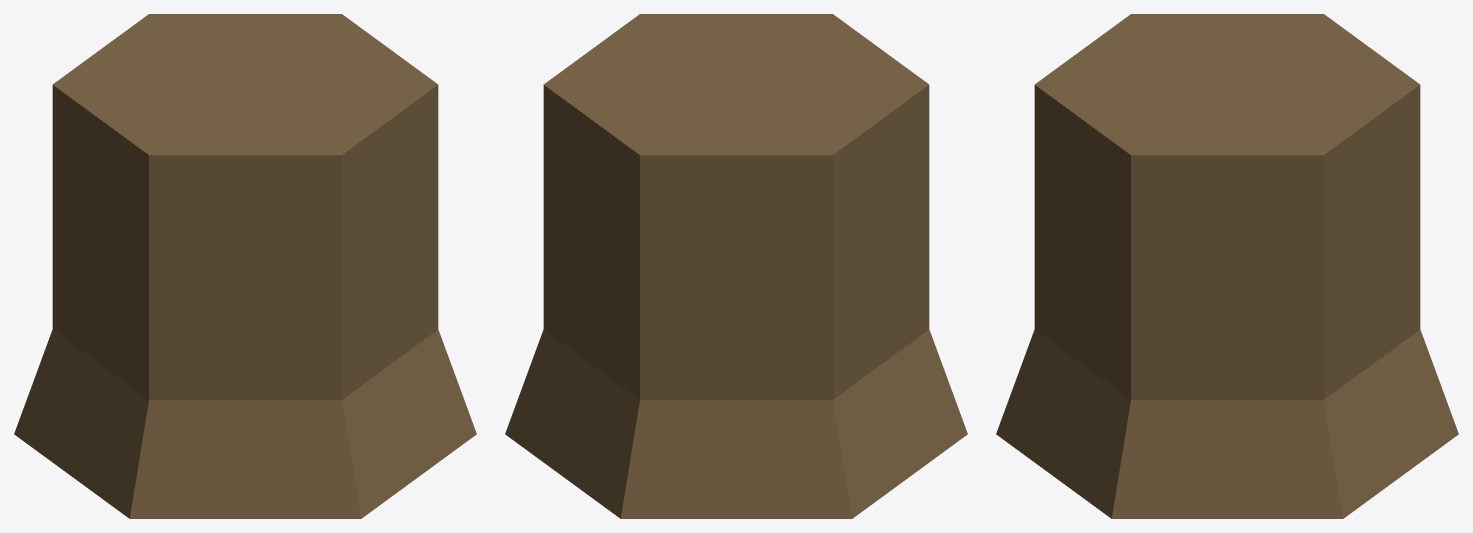
The model's file is log2.dae.
The picture shows the model from 3 angles, left to right: view 1: azimuth 30°, elevation 25°; view 2: azimuth 150°, elevation 25°; view 3: azimuth 270°, elevation 25°; orthographic projection.
Visible parts, largest first — view 1: mesh; view 2: mesh; view 3: mesh.
Part boxes in pixels (<box>): mesh: <box>14,14,476,518</box>; mesh: <box>505,14,967,518</box>; mesh: <box>996,14,1458,518</box>.
Size of the model in its own units: 1.04 by 1.2 by 1.
